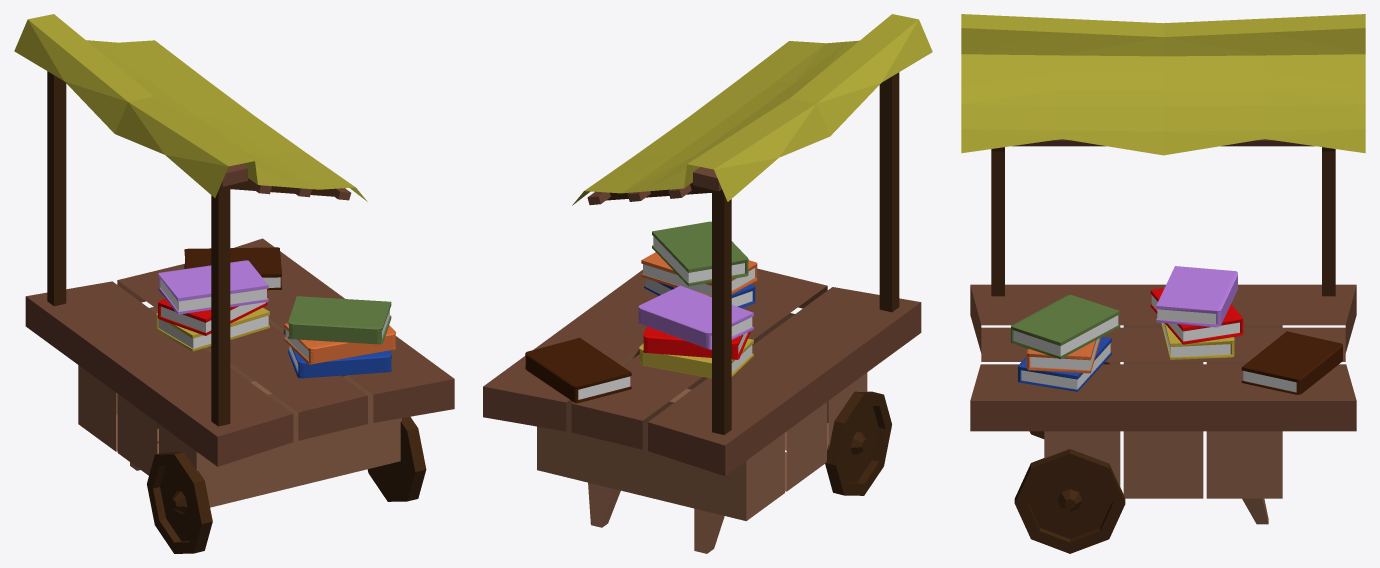
The model's file is BookStand3.fbx.
The picture shows the model from 3 angles, left to right: view 1: azimuth 30°, elevation 25°; view 2: azimuth 150°, elevation 25°; view 3: azimuth 270°, elevation 25°; orthographic projection. The views are drawn at different scales.
Visible parts, largest first — view 1: BookStand; view 2: BookStand; view 3: BookStand.
Part boxes in pixels (<box>): BookStand: <box>14,14,454,553</box>; BookStand: <box>483,14,932,553</box>; BookStand: <box>961,14,1365,553</box>.
Size of the model in its own units: 930 by 1556 by 1327.
